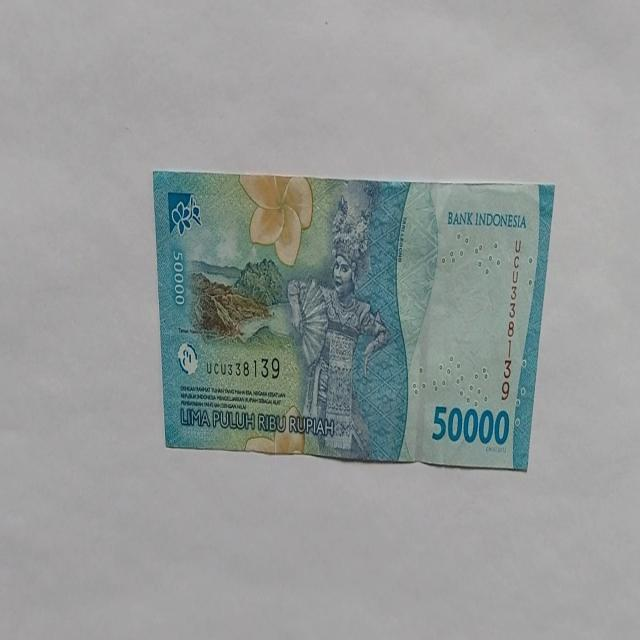lima puluh ribu rupiah: (152, 170, 555, 470)
